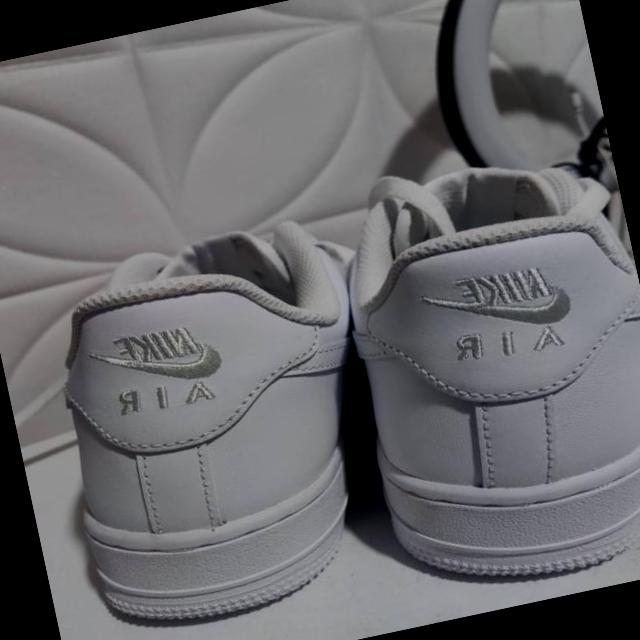nike_original_airforce: (15, 183, 424, 640), (290, 131, 640, 614)
